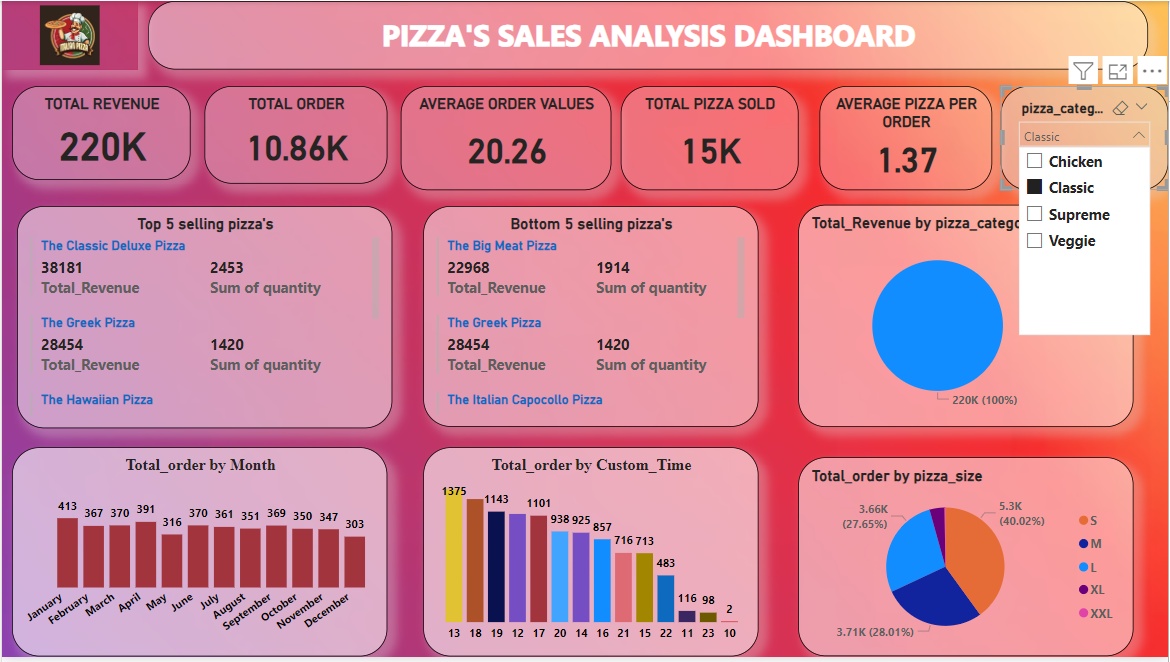

This screenshot's page, from the dashboard's own definition file:
{"tool":"powerbi","page":{"name":"Page 2","canvas":[1280,720],"ordinal":0},"visuals":[{"type":"card","title":"TOTAL REVENUE","fields":{"Values":["pizza_sales (2).Total_Revenue"]},"box":[11.1,93.3,196.3,103],"z":0},{"type":"card","title":"TOTAL ORDER","fields":{"Values":["pizza_sales (2).Total_order"]},"box":[222.8,93.3,200.5,107.2],"z":1000},{"type":"card","title":"AVERAGE ORDER VALUES","fields":{"Values":["pizza_sales (2).Average_order_values"]},"box":[437.2,93.3,231.2,114.2],"z":2000},{"type":"card","title":"TOTAL PIZZA SOLD","fields":{"Values":["pizza_sales (2).Total_pizza_sold"]},"box":[679.5,93.3,195,114.2],"z":3000},{"type":"card","title":"AVERAGE PIZZA PER ORDER","fields":{"Values":["pizza_sales (2).Average_pizzas_per_order"]},"box":[896.8,93.3,189.4,114.2],"z":4000},{"type":"textbox","box":[160.1,0,1097.3,75.2],"z":5000},{"type":"image","box":[0,0,149,75.2],"z":6000},{"type":"slicer","fields":{"Values":["pizza_sales (2).pizza_category"]},"box":[1095.9,93.3,183.8,114.2],"z":7000},{"type":"columnChart","fields":{"Category":["pizza_sales (2).order_date.Variation.Date Hierarchy.Month"],"Y":["pizza_sales (2).Total_order"]},"box":[11.1,490.2,412.2,229.8],"z":8000},{"type":"pieChart","fields":{"Category":["pizza_sales (2).pizza_category"],"Y":["pizza_sales (2).Total_Revenue"]},"box":[874.5,224.2,367.6,243.7],"z":9000},{"type":"multiRowCard","title":"Bottom 5 selling pizza''s","fields":{"Values":["pizza_sales (2).pizza_name","pizza_sales (2).Total_Revenue","Sum(pizza_sales (2).quantity)"]},"box":[462.3,225.6,367.6,242.3],"z":10000},{"type":"multiRowCard","title":"Top 5 selling pizza''s","fields":{"Values":["pizza_sales (2).pizza_name","pizza_sales (2).Total_Revenue","Sum(pizza_sales (2).quantity)"]},"box":[16.7,225.6,412.2,243.7],"z":11000},{"type":"pieChart","fields":{"Category":["pizza_sales (2).pizza_size"],"Y":["pizza_sales (2).Total_order"]},"box":[874.5,501.3,367.6,218.6],"z":12000},{"type":"columnChart","fields":{"Category":["pizza_sales (2).Custom_Time"],"Y":["pizza_sales (2).Total_order"]},"box":[462.3,490.2,367.6,229.8],"z":13000}]}

Visuals, with their boxes in screenshot pixels (x1, y1, x2, y2), scaled from the page's 1280x720 canvas onto the 1170x662 screenshot:
"TOTAL REVENUE" card: bbox=[10, 86, 190, 180]
"TOTAL ORDER" card: bbox=[204, 86, 387, 184]
"AVERAGE ORDER VALUES" card: bbox=[400, 86, 611, 191]
"TOTAL PIZZA SOLD" card: bbox=[621, 86, 799, 191]
"AVERAGE PIZZA PER ORDER" card: bbox=[820, 86, 993, 191]
textbox: bbox=[146, 0, 1149, 69]
image: bbox=[0, 0, 136, 69]
slicer - pizza_sales (2).pizza_category: bbox=[1002, 86, 1169, 191]
columnChart - pizza_sales (2).order_date.Variation.Date Hierarchy.Month x pizza_sales (2).Total_order: bbox=[10, 451, 387, 661]
pieChart - pizza_sales (2).pizza_category x pizza_sales (2).Total_Revenue: bbox=[799, 206, 1135, 430]
"Bottom 5 selling pizza''s" multiRowCard: bbox=[423, 207, 759, 430]
"Top 5 selling pizza''s" multiRowCard: bbox=[15, 207, 392, 431]
pieChart - pizza_sales (2).pizza_size x pizza_sales (2).Total_order: bbox=[799, 461, 1135, 661]
columnChart - pizza_sales (2).Custom_Time x pizza_sales (2).Total_order: bbox=[423, 451, 759, 661]
